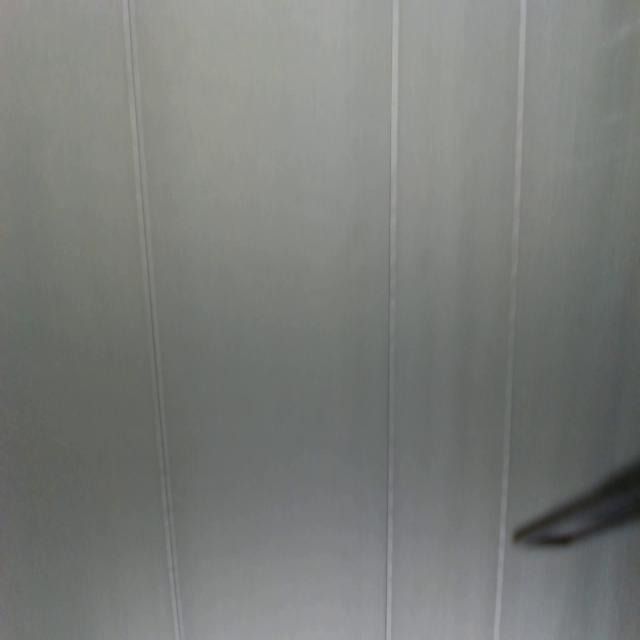crease: (123, 1, 185, 640), (490, 2, 528, 640), (383, 1, 401, 640)
